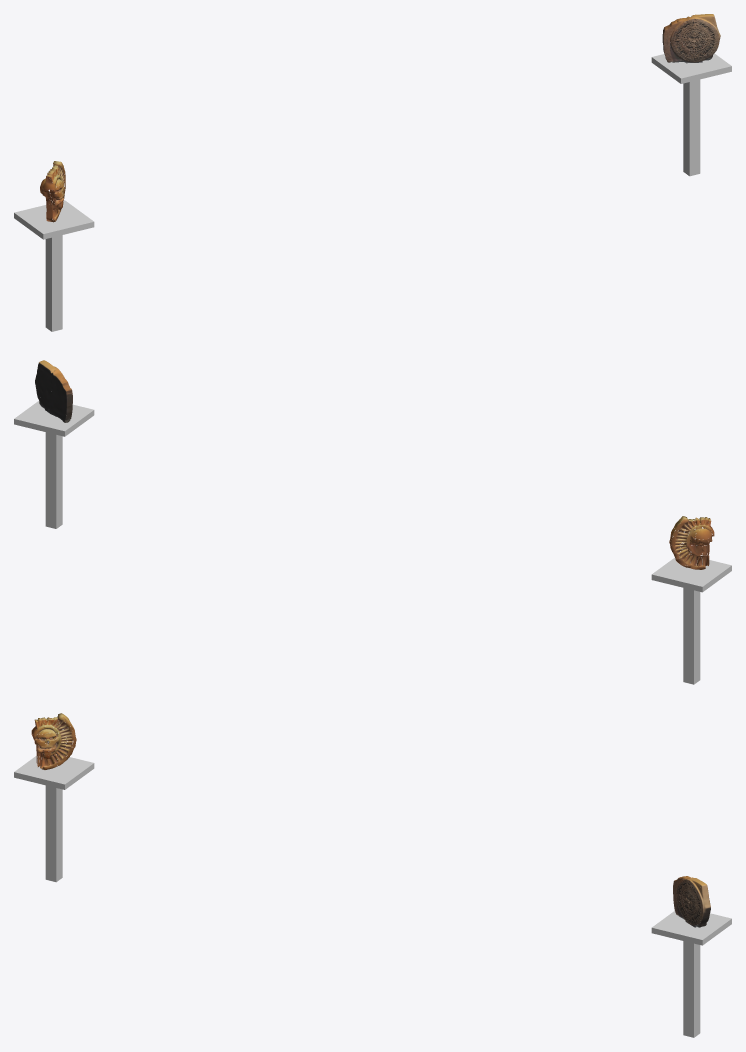
The model's file is antropology-transformed.glb.
3 renders of one model, top to bottom at view 1: azimuth 30°, elevation 25°; view 2: azimuth 150°, elevation 25°; view 3: azimuth 330°, elevation 25°, orthographic.
Visible parts, largest first — view 1: base; view 2: base; view 3: base.
Boxes of the visible parts, x1,y1,x2,y2 form: base: (14,14,731,331); base: (14,360,731,684); base: (14,713,731,1037).
Bounding box in the file's own units: 12.96 × 2.95 × 0.9587.
Materials: 3 (2 with a texture image).
